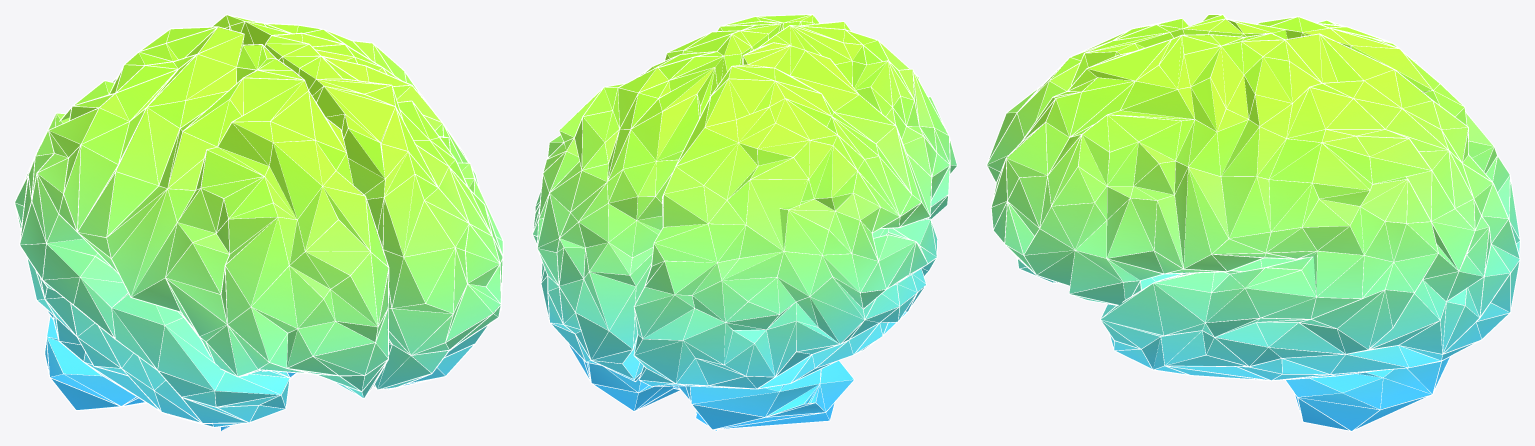
File: Brain.gltf
3 views of the same model, side by side, from view 1: azimuth 30°, elevation 25°; view 2: azimuth 150°, elevation 25°; view 3: azimuth 270°, elevation 25° (orthographic). The views are drawn at different scales.
Visible parts, largest first — view 1: BrainSolid, BrainWire; view 2: BrainSolid, BrainWire; view 3: BrainSolid, BrainWire.
Part boxes in pixels (x1,y1,x2,y2): BrainSolid: (15,15,502,430); BrainWire: (14,14,503,431); BrainSolid: (533,15,956,430); BrainWire: (532,14,957,431); BrainSolid: (987,15,1519,430); BrainWire: (986,14,1520,431).
Bounding box in the file's own units: 4.71 × 4.8 × 5.97.
Materials: 2 (1 with a texture image).
